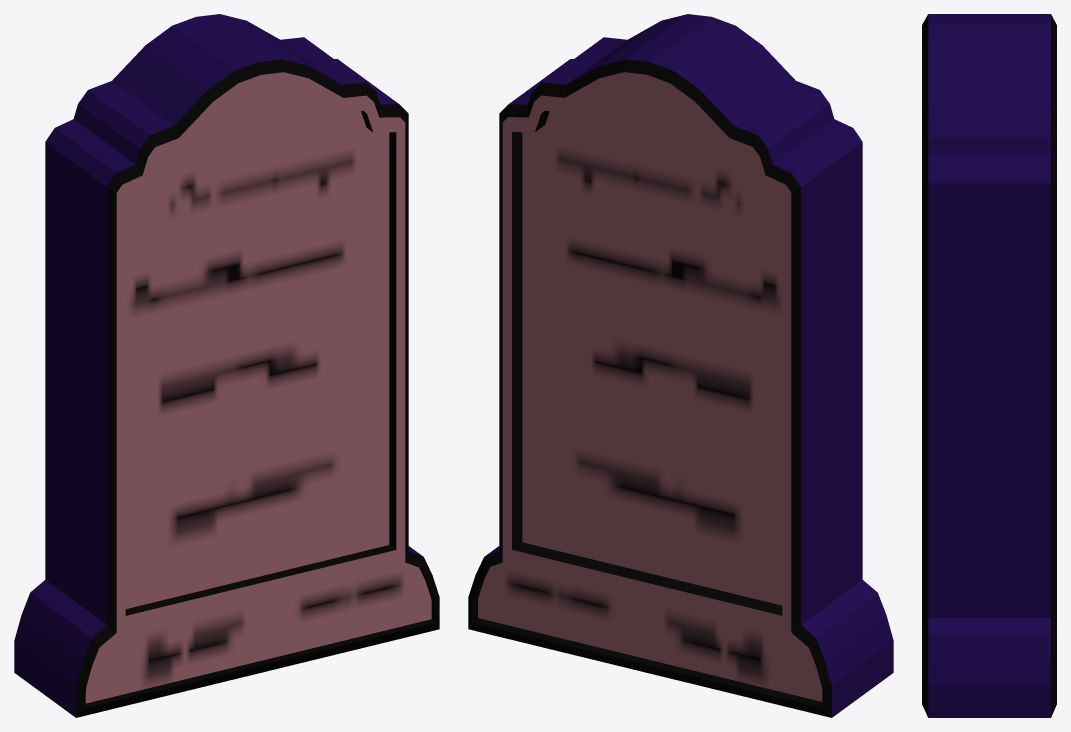
The model's file is Grave'GJ.fbx.
The picture shows the model from 3 angles, left to right: view 1: azimuth 30°, elevation 25°; view 2: azimuth 150°, elevation 25°; view 3: azimuth 270°, elevation 25°; orthographic projection.
Parts seen in each view (by area): view 1: Grave; view 2: Grave; view 3: Grave.
Boxes of the visible parts, x1,y1,x2,y2 form: Grave: (14, 14, 439, 717); Grave: (468, 14, 893, 717); Grave: (922, 14, 1056, 717).
Bounding box in the file's own units: 286 × 459 × 92.36.
1 material, 1 textured.
